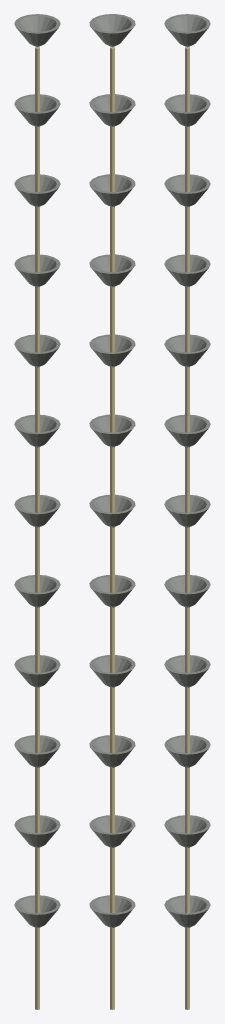
The model's file is arch_rain_chain.glb.
The picture shows the model from 3 angles, left to right: view 1: azimuth 90°, elevation 25°; view 2: azimuth 150°, elevation 25°; view 3: azimuth 270°, elevation 25°; orthographic projection.
Visible parts, largest first — view 1: arch_rain_chain/rain_chain_funnel_00000, arch_rain_chain/rain_chain_funnel_00018, arch_rain_chain/rain_chain_funnel_00016, arch_rain_chain/rain_chain_funnel_00006, arch_rain_chain/rain_chain_funnel_00012, arch_rain_chain/rain_chain_funnel_00014, arch_rain_chain/rain_chain_funnel_00020, arch_rain_chain/rain_chain_funnel_00022, arch_rain_chain/rain_chain_funnel_00004, arch_rain_chain/rain_chain_funnel_00008, arch_rain_chain/rain_chain_funnel_00010, arch_rain_chain/rain_chain_funnel_00002 (+12 smaller); view 2: arch_rain_chain/rain_chain_funnel_00000, arch_rain_chain/rain_chain_funnel_00016, arch_rain_chain/rain_chain_funnel_00006, arch_rain_chain/rain_chain_funnel_00008, arch_rain_chain/rain_chain_funnel_00012, arch_rain_chain/rain_chain_funnel_00014, arch_rain_chain/rain_chain_funnel_00010, arch_rain_chain/rain_chain_funnel_00018, arch_rain_chain/rain_chain_funnel_00004, arch_rain_chain/rain_chain_funnel_00022, arch_rain_chain/rain_chain_funnel_00002, arch_rain_chain/rain_chain_funnel_00020 (+12 smaller); view 3: arch_rain_chain/rain_chain_funnel_00000, arch_rain_chain/rain_chain_funnel_00018, arch_rain_chain/rain_chain_funnel_00016, arch_rain_chain/rain_chain_funnel_00006, arch_rain_chain/rain_chain_funnel_00012, arch_rain_chain/rain_chain_funnel_00014, arch_rain_chain/rain_chain_funnel_00020, arch_rain_chain/rain_chain_funnel_00022, arch_rain_chain/rain_chain_funnel_00004, arch_rain_chain/rain_chain_funnel_00008, arch_rain_chain/rain_chain_funnel_00010, arch_rain_chain/rain_chain_funnel_00002 (+12 smaller).
Boxes of the visible parts, x1=… form: arch_rain_chain/rain_chain_funnel_00000: x1=14, y1=14, x2=60, y2=47; arch_rain_chain/rain_chain_funnel_00018: x1=14, y1=735, x2=60, y2=767; arch_rain_chain/rain_chain_funnel_00016: x1=14, y1=655, x2=60, y2=687; arch_rain_chain/rain_chain_funnel_00006: x1=14, y1=254, x2=60, y2=287; arch_rain_chain/rain_chain_funnel_00012: x1=14, y1=495, x2=60, y2=527; arch_rain_chain/rain_chain_funnel_00014: x1=14, y1=575, x2=60, y2=607; arch_rain_chain/rain_chain_funnel_00020: x1=14, y1=815, x2=60, y2=847; arch_rain_chain/rain_chain_funnel_00022: x1=14, y1=895, x2=60, y2=927; arch_rain_chain/rain_chain_funnel_00004: x1=14, y1=174, x2=60, y2=207; arch_rain_chain/rain_chain_funnel_00008: x1=14, y1=334, x2=60, y2=367; arch_rain_chain/rain_chain_funnel_00010: x1=14, y1=414, x2=60, y2=447; arch_rain_chain/rain_chain_funnel_00002: x1=14, y1=94, x2=60, y2=126; arch_rain_chain/rain_chain_funnel_00000: x1=89, y1=14, x2=135, y2=47; arch_rain_chain/rain_chain_funnel_00016: x1=89, y1=655, x2=135, y2=687; arch_rain_chain/rain_chain_funnel_00006: x1=89, y1=254, x2=135, y2=287; arch_rain_chain/rain_chain_funnel_00008: x1=89, y1=334, x2=135, y2=367; arch_rain_chain/rain_chain_funnel_00012: x1=89, y1=494, x2=135, y2=527; arch_rain_chain/rain_chain_funnel_00014: x1=89, y1=574, x2=135, y2=607; arch_rain_chain/rain_chain_funnel_00010: x1=89, y1=414, x2=135, y2=447; arch_rain_chain/rain_chain_funnel_00018: x1=89, y1=735, x2=135, y2=767; arch_rain_chain/rain_chain_funnel_00004: x1=89, y1=174, x2=135, y2=206; arch_rain_chain/rain_chain_funnel_00022: x1=89, y1=895, x2=135, y2=927; arch_rain_chain/rain_chain_funnel_00002: x1=89, y1=94, x2=135, y2=126; arch_rain_chain/rain_chain_funnel_00020: x1=89, y1=815, x2=135, y2=847; arch_rain_chain/rain_chain_funnel_00000: x1=164, y1=14, x2=210, y2=47; arch_rain_chain/rain_chain_funnel_00018: x1=164, y1=735, x2=210, y2=767; arch_rain_chain/rain_chain_funnel_00016: x1=164, y1=655, x2=210, y2=687; arch_rain_chain/rain_chain_funnel_00006: x1=164, y1=254, x2=210, y2=287; arch_rain_chain/rain_chain_funnel_00012: x1=164, y1=495, x2=210, y2=527; arch_rain_chain/rain_chain_funnel_00014: x1=164, y1=575, x2=210, y2=607; arch_rain_chain/rain_chain_funnel_00020: x1=164, y1=815, x2=210, y2=847; arch_rain_chain/rain_chain_funnel_00022: x1=164, y1=895, x2=210, y2=927; arch_rain_chain/rain_chain_funnel_00004: x1=164, y1=174, x2=210, y2=207; arch_rain_chain/rain_chain_funnel_00008: x1=164, y1=334, x2=210, y2=367; arch_rain_chain/rain_chain_funnel_00010: x1=164, y1=414, x2=210, y2=447; arch_rain_chain/rain_chain_funnel_00002: x1=164, y1=94, x2=210, y2=126.
Size of the model in its own units: 0.116 by 2.71 by 0.116.
